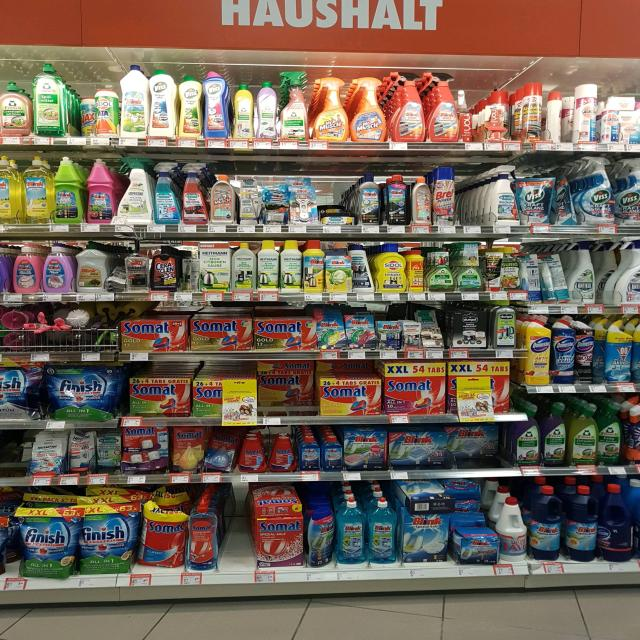void: (224, 499, 252, 584), (462, 163, 484, 232), (0, 433, 25, 486)
